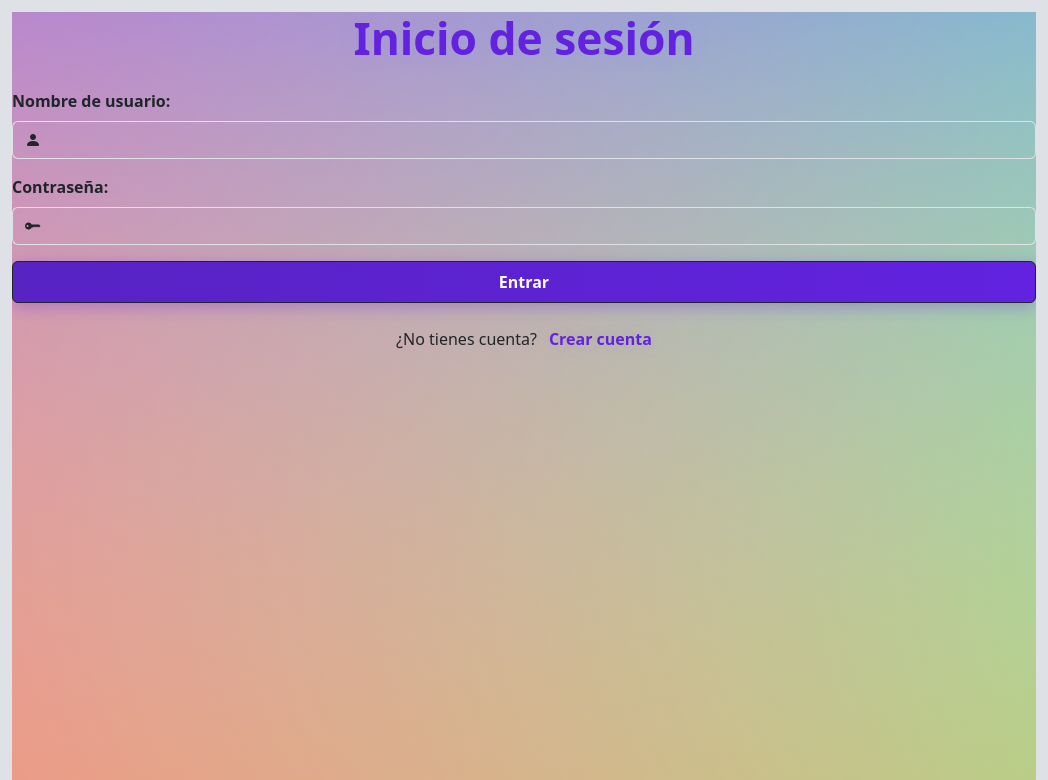
LoginForm › try login without username
In the password field labelled "Contraseña:": (544, 226) [52,207,1036,245], type "testpassword"
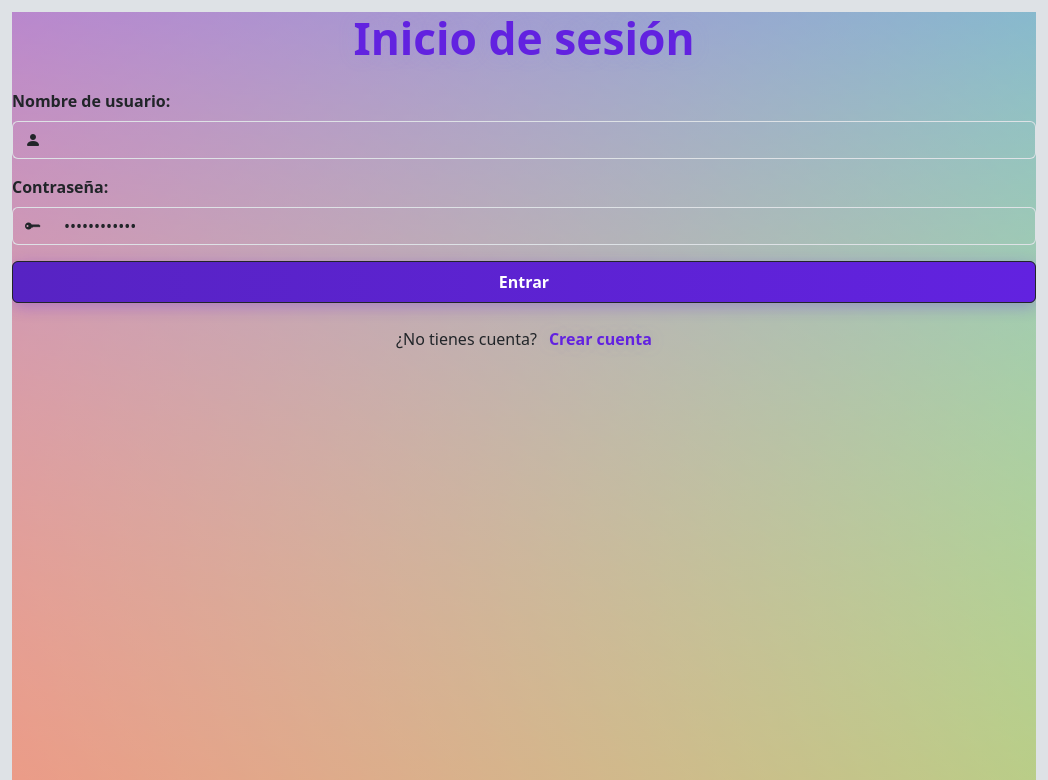
Click the button "Entrar": (524, 282) [12,261,1036,303]
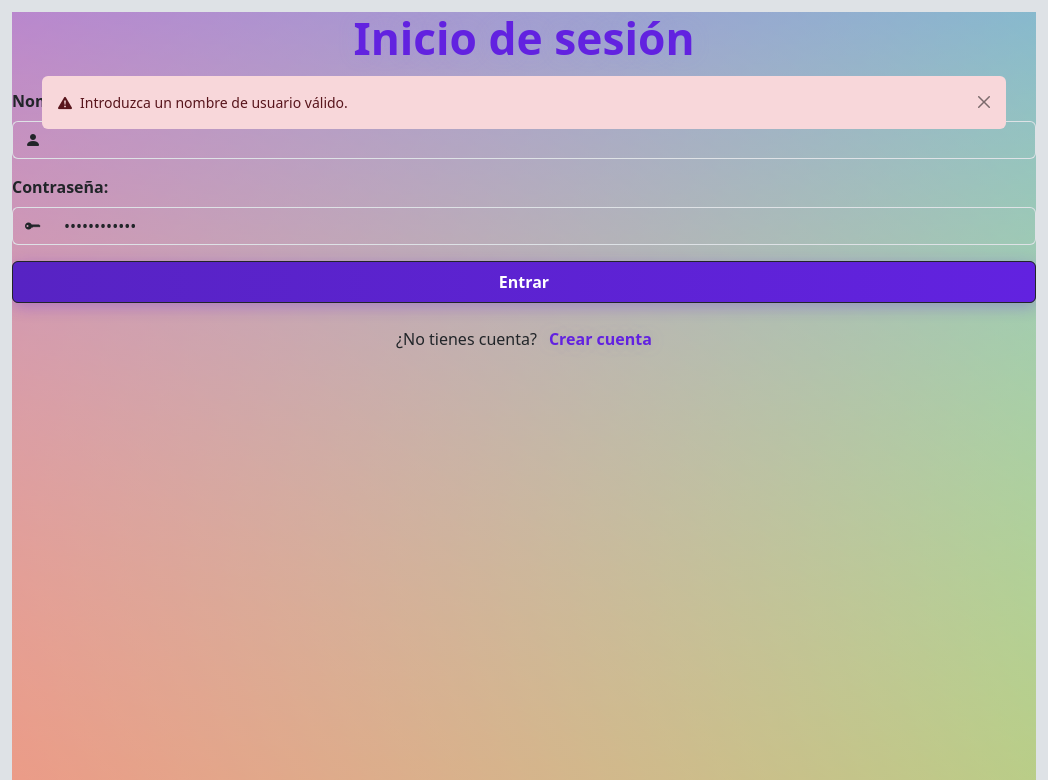
Expected: the text "Introduzca un nombre de usuario válido." is shown, [80,93,348,112]
